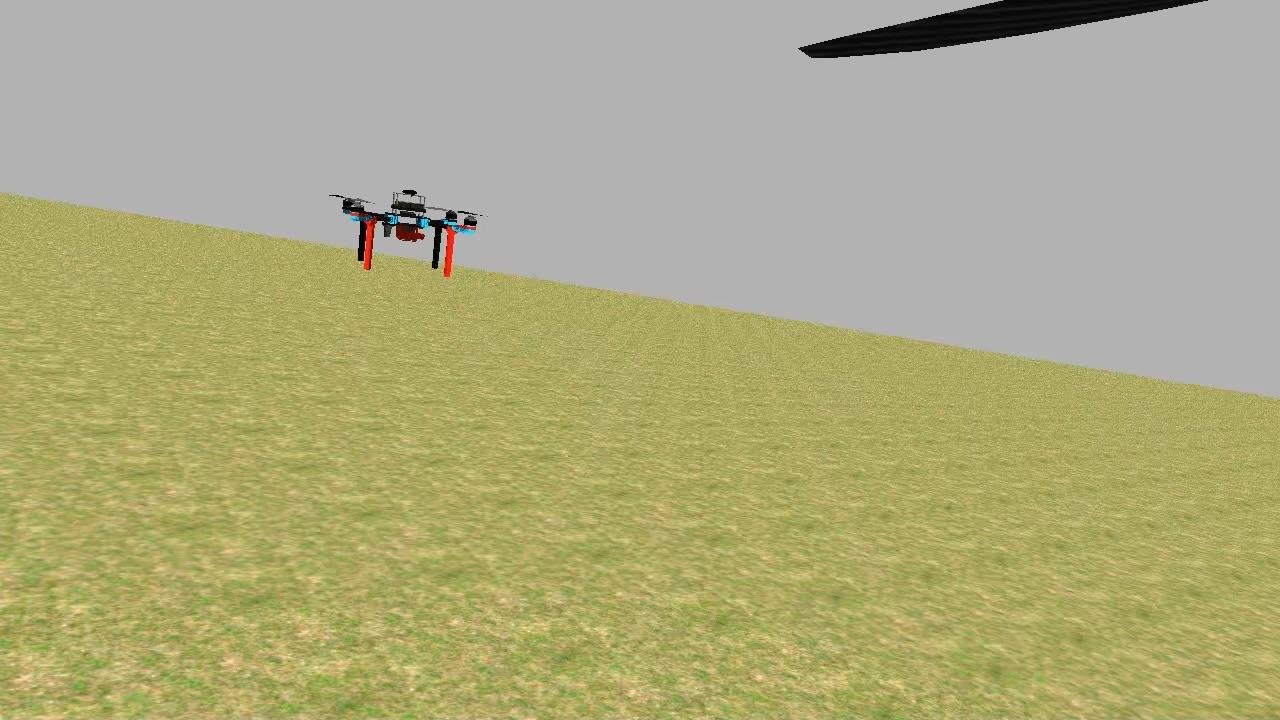UAV: (334, 182, 488, 280)
